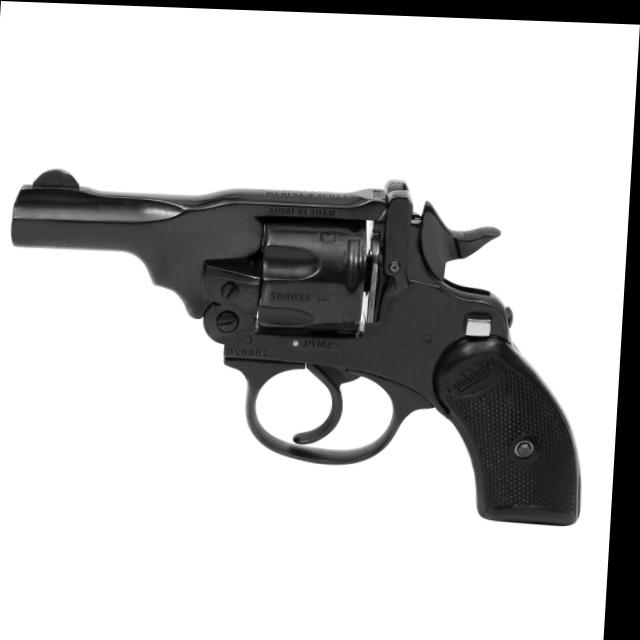handgun: (0, 165, 604, 522)
